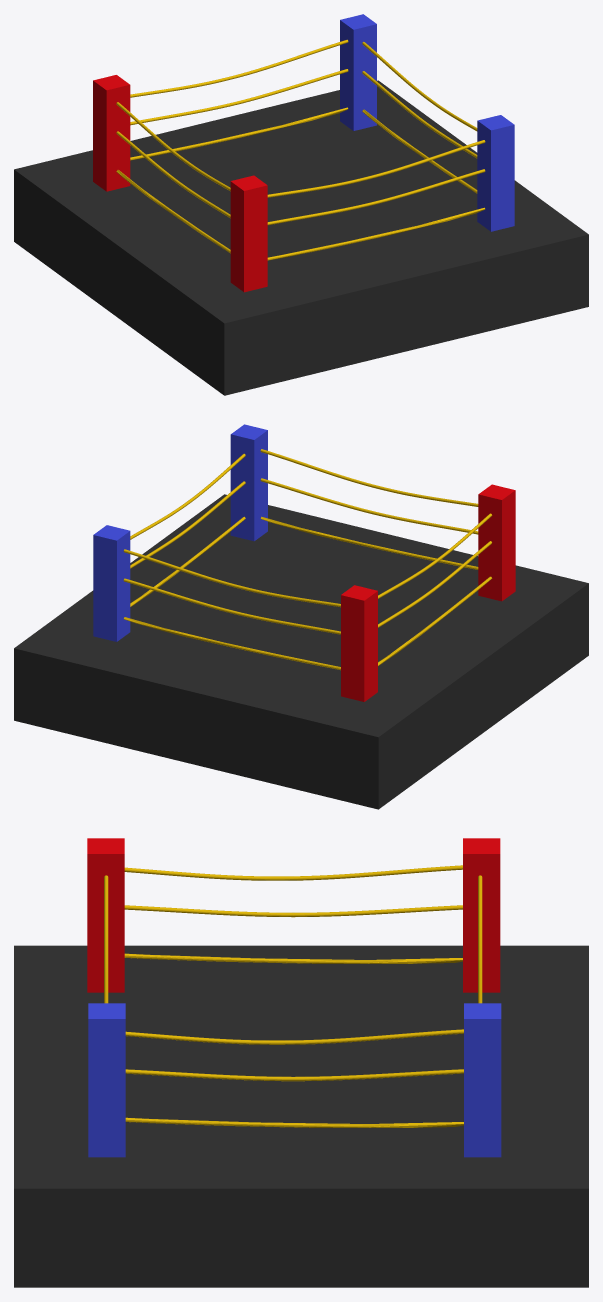
3 renders of one model, top to bottom at view 1: azimuth 30°, elevation 25°; view 2: azimuth 150°, elevation 25°; view 3: azimuth 270°, elevation 25°, orthographic. The views are drawn at different scales.
Parts seen in each view (by area): view 1: Cube, Cube.001, Cube.003, Cube.002, Cube.004, Cylinder, Cylinder.002, Cylinder.010, Cylinder.001, Cylinder.011, Cylinder.012, Cylinder.004 (+5 smaller); view 2: Cube, Cube.004, Cube.002, Cube.001, Cube.003, Cylinder.010, Cylinder.012, Cylinder, Cylinder.011, Cylinder.001, Cylinder.002, Cylinder.006 (+5 smaller); view 3: Cube, Cube.003, Cube.004, Cube.001, Cube.002, Cylinder.008, Cylinder.005, Cylinder.004, Cylinder.007, Cylinder.006, Cylinder.009, Cylinder (+1 smaller).
Boxes of the visible parts, bbox=[...] form: Cube: bbox=[14, 80, 588, 395]; Cube.001: bbox=[230, 175, 267, 292]; Cube.003: bbox=[477, 115, 514, 231]; Cube.002: bbox=[93, 75, 130, 191]; Cube.004: bbox=[340, 14, 376, 130]; Cylinder: bbox=[267, 140, 485, 197]; Cylinder.002: bbox=[267, 207, 485, 260]; Cylinder.010: bbox=[130, 39, 348, 97]; Cylinder.001: bbox=[267, 169, 485, 225]; Cylinder.011: bbox=[130, 69, 348, 125]; Cylinder.012: bbox=[130, 107, 348, 160]; Cylinder.004: bbox=[116, 102, 230, 191]; Cube: bbox=[14, 494, 588, 809]; Cube.004: bbox=[93, 525, 130, 641]; Cube.002: bbox=[341, 585, 377, 701]; Cube.001: bbox=[478, 484, 515, 601]; Cube.003: bbox=[230, 424, 267, 541]; Cylinder.010: bbox=[123, 549, 340, 607]; Cylinder.012: bbox=[124, 617, 340, 670]; Cylinder: bbox=[260, 449, 478, 506]; Cylinder.011: bbox=[123, 578, 340, 634]; Cylinder.001: bbox=[260, 478, 478, 534]; Cylinder.002: bbox=[260, 516, 478, 569]; Cylinder.006: bbox=[378, 576, 492, 665]; Cube: bbox=[14, 945, 588, 1287]; Cube.003: bbox=[88, 1003, 125, 1157]; Cube.004: bbox=[464, 1003, 501, 1157]; Cube.001: bbox=[87, 838, 124, 992]; Cube.002: bbox=[463, 838, 500, 992]; Cylinder.008: bbox=[125, 1069, 463, 1081]; Cylinder.005: bbox=[124, 905, 462, 917]; Cylinder.004: bbox=[124, 865, 462, 880]; Cylinder.007: bbox=[125, 1029, 463, 1044]; Cylinder.006: bbox=[124, 953, 462, 963]; Cylinder.009: bbox=[125, 1117, 463, 1127]; Cylinder: bbox=[104, 875, 108, 1003].
Size of what is drawn, in the model's own units: 13.78 by 6.27 by 13.78.
